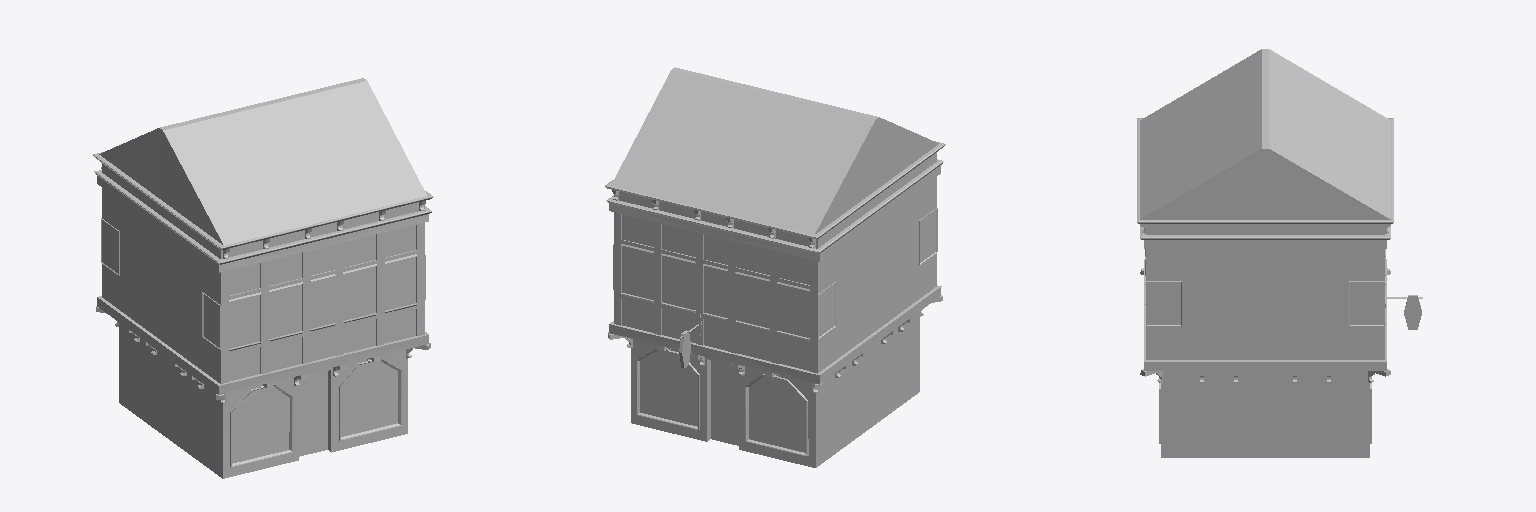
Rendered from house17.obj.
3 renders of one model, left to right at view 1: azimuth 30°, elevation 25°; view 2: azimuth 150°, elevation 25°; view 3: azimuth 270°, elevation 25°, orthographic.
Parts seen in each view (by area): view 1: City_building_039.001; view 2: City_building_039.001; view 3: City_building_039.001.
Boxes of the visible parts, box(x1,y1,x2,y2) form: City_building_039.001: box(93, 78, 433, 478); City_building_039.001: box(605, 67, 945, 467); City_building_039.001: box(1137, 49, 1422, 457).
Size of the model in its own units: 1.41 by 1.97 by 1.62.